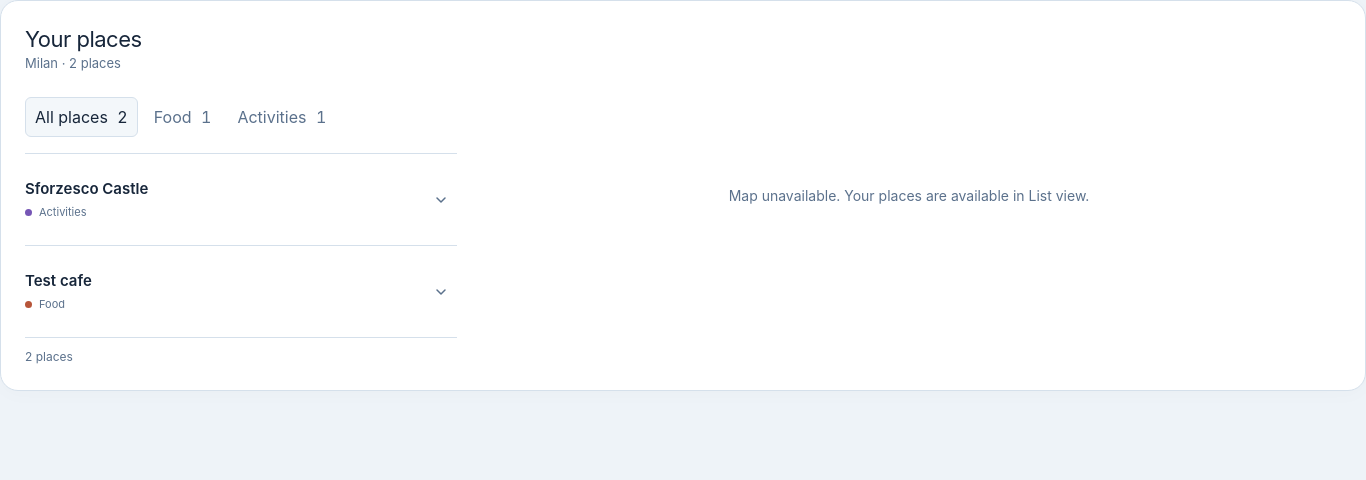
Test: place options dismiss on Escape and outside click without removing anything
This screenshot has width=1366, height=480.
Step 1. Click the button "Sforzesco Castle Activities" → (87, 189), box 25,170 -> 457,229
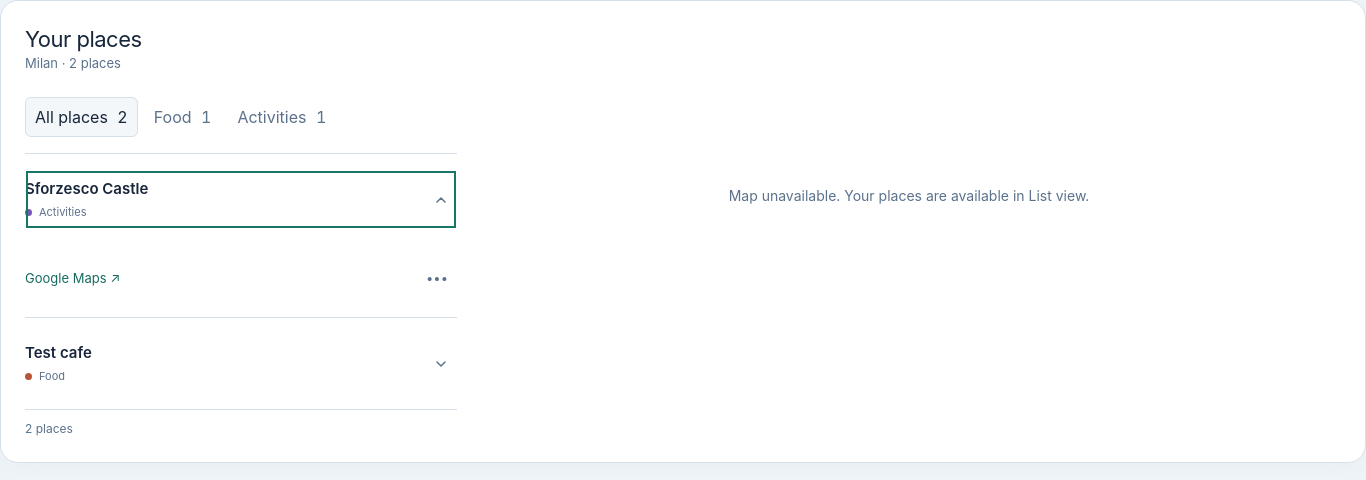
Step 2. Click the button named "More options for Sforzesco Castle" → (437, 279), box 417,259 -> 457,299
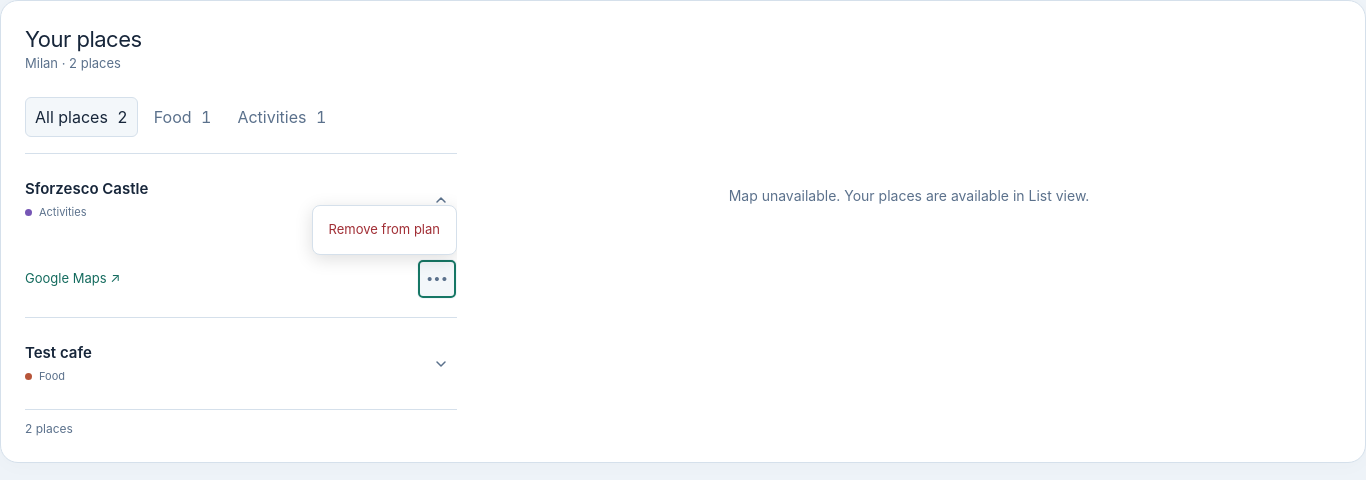
Step 3. Press Tab
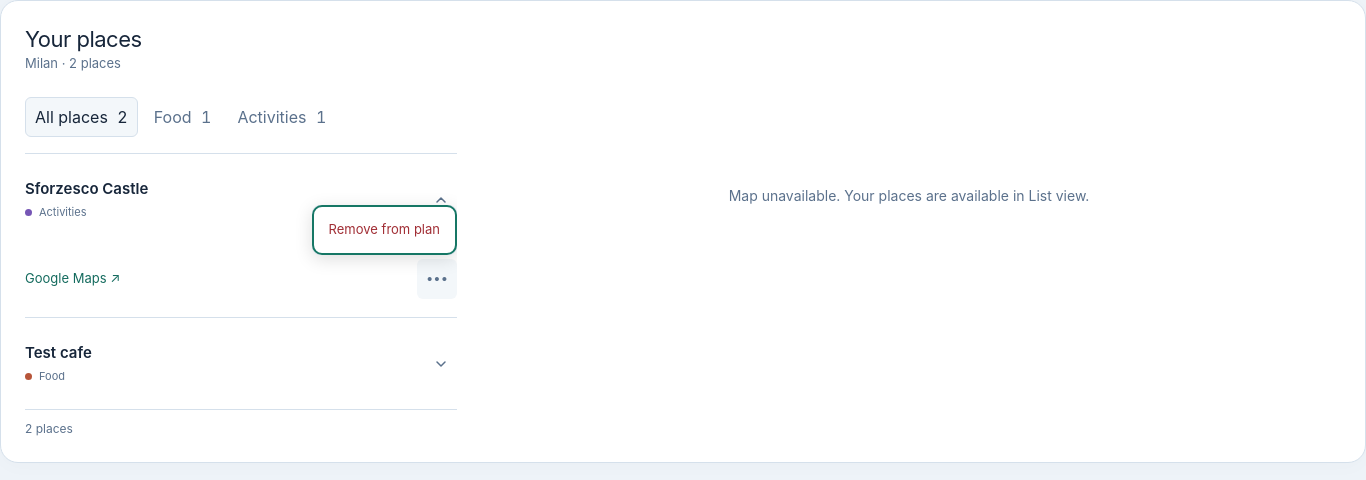
Step 4. Press Escape
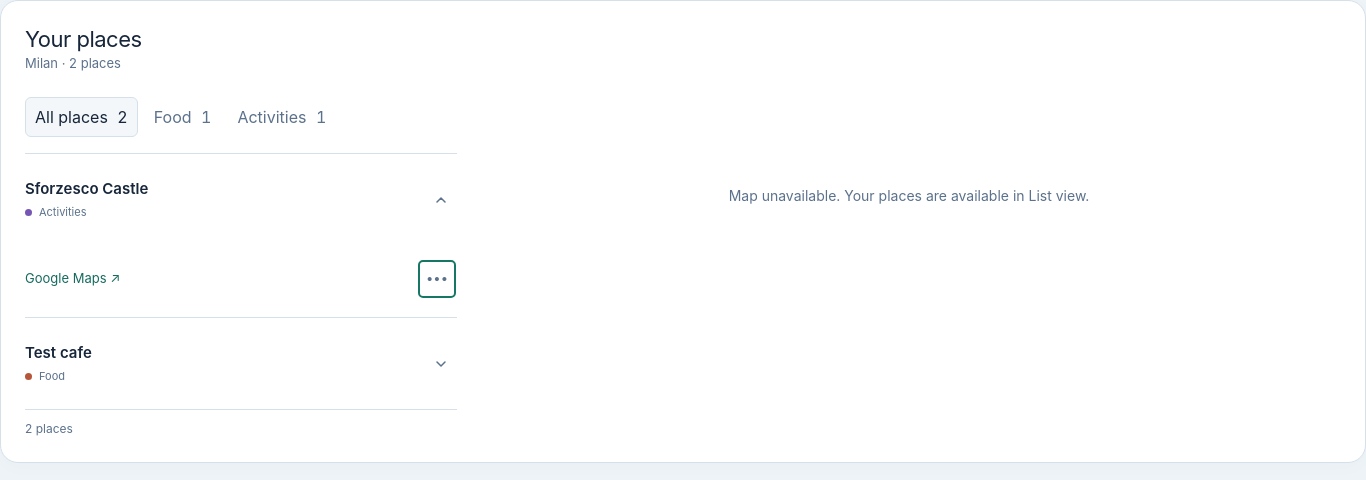
Check: the button "Remove from plan" is gone
Step 5. Click the button named "More options for Sforzesco Castle" → (437, 279), box 417,259 -> 457,299
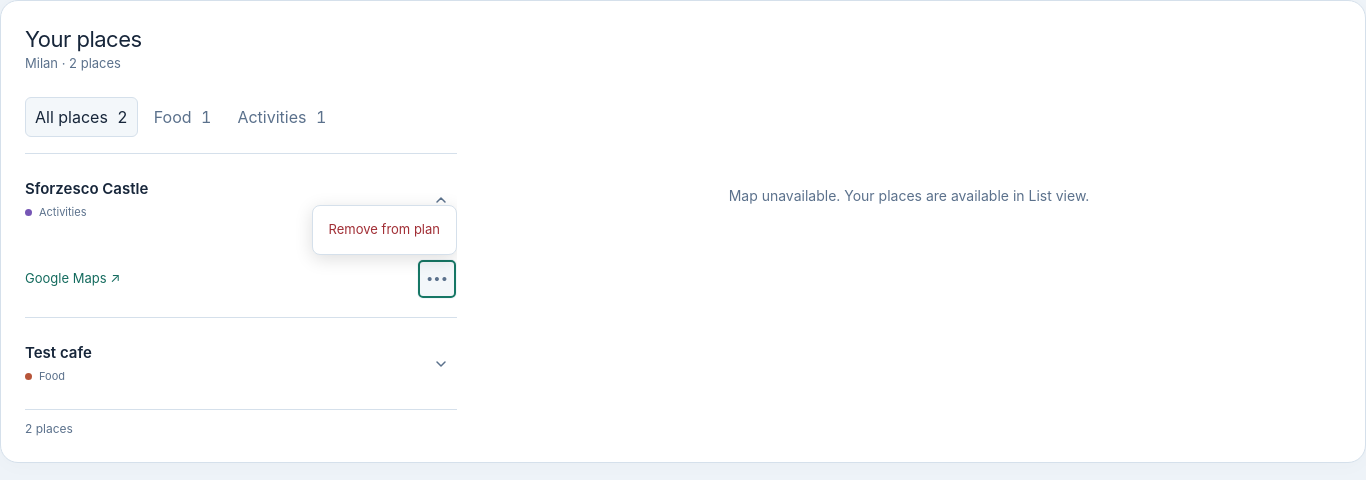
Step 6. Click the heading "Your places" → (83, 39), box 25,25 -> 142,54
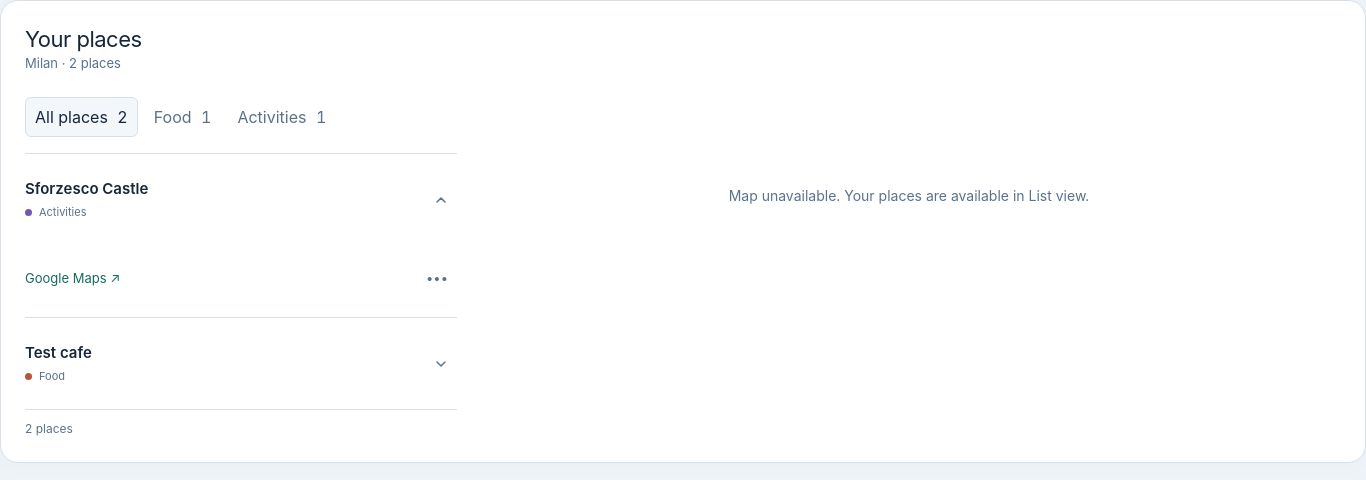
Check: the button "Remove from plan" is gone
